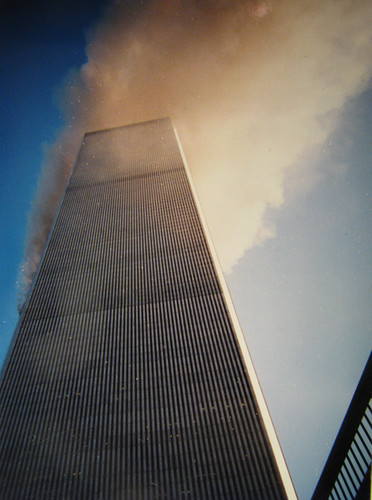building: (1, 135, 284, 500)
smoke: (80, 1, 372, 260)
